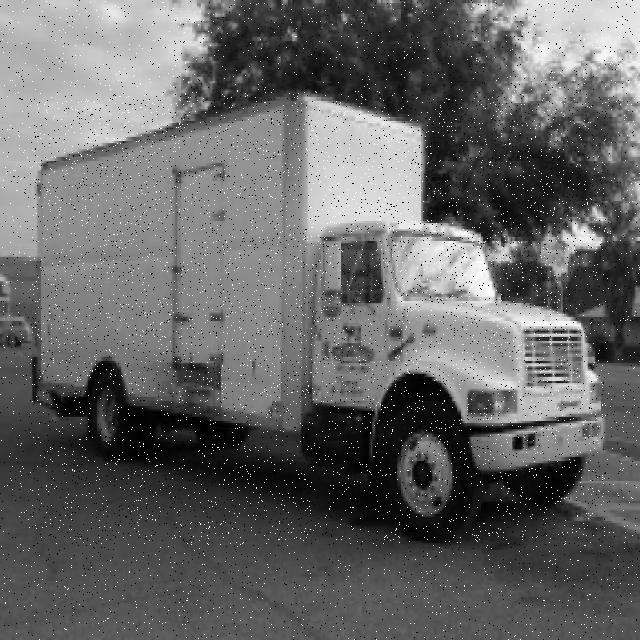Box Truck: (32, 92, 606, 546)
